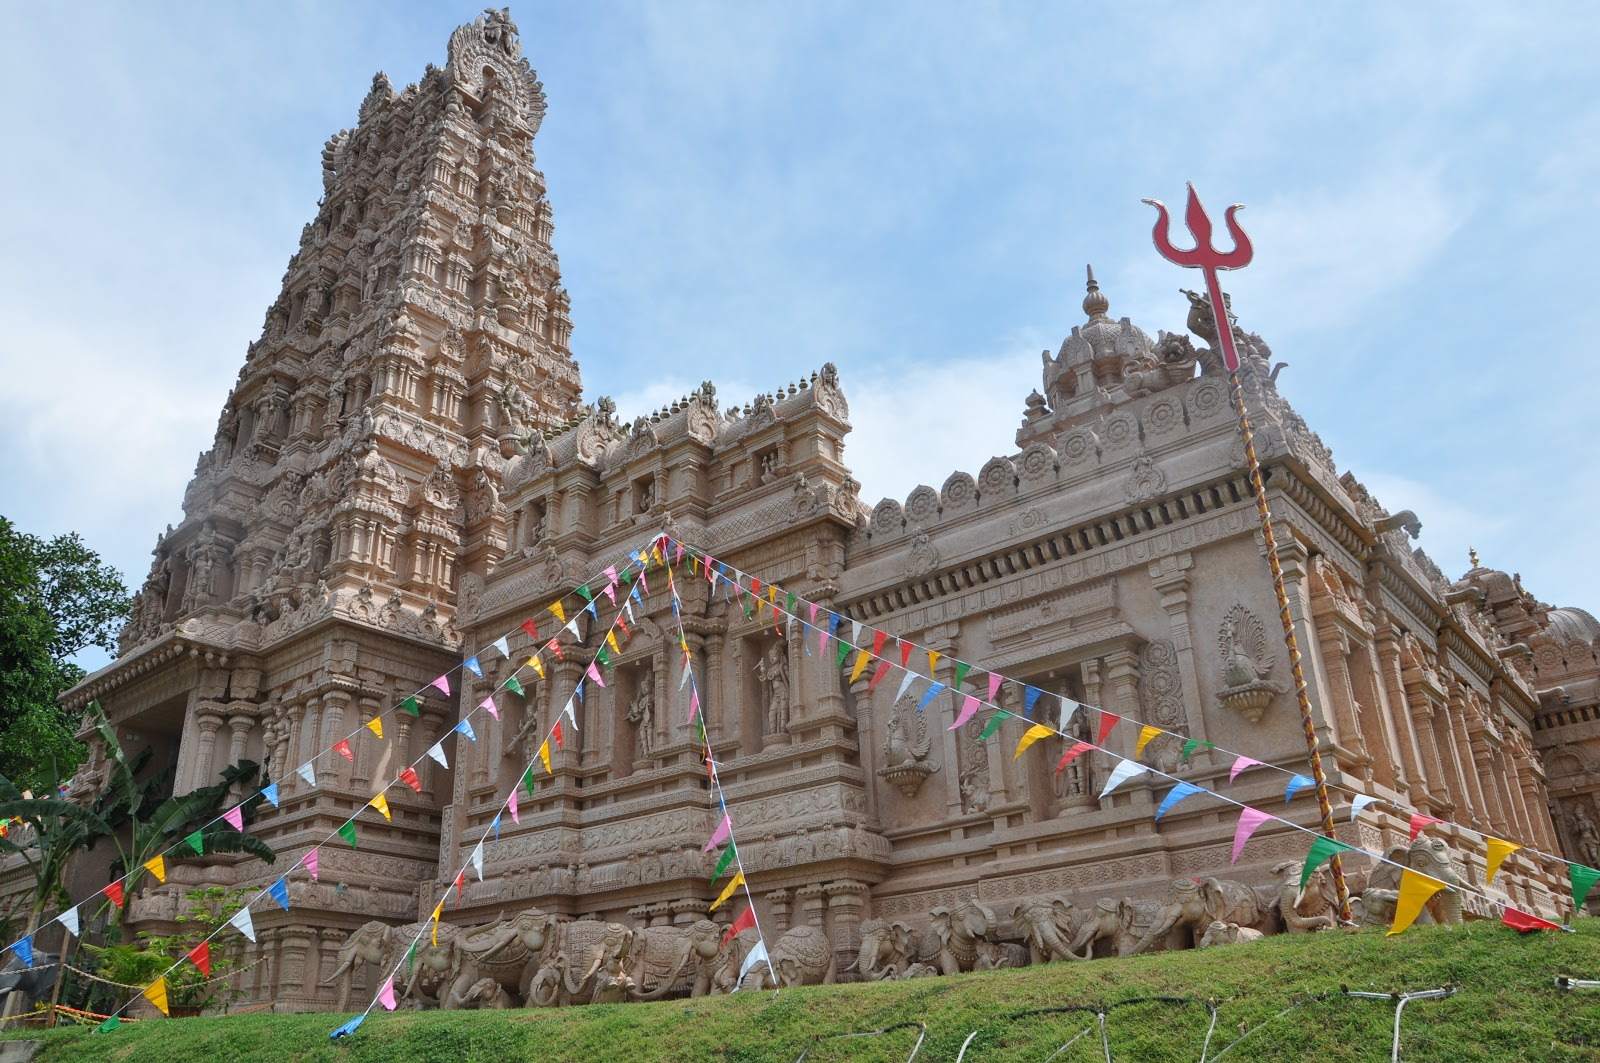Hindu Temple: (122, 6, 1534, 927)
